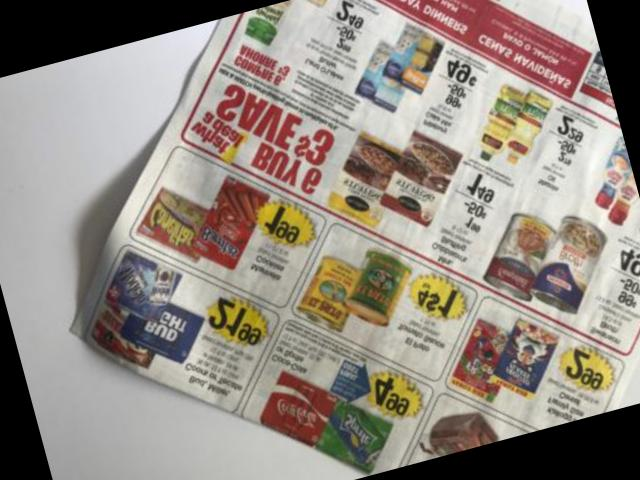cardboard paper: (74, 0, 640, 474)
